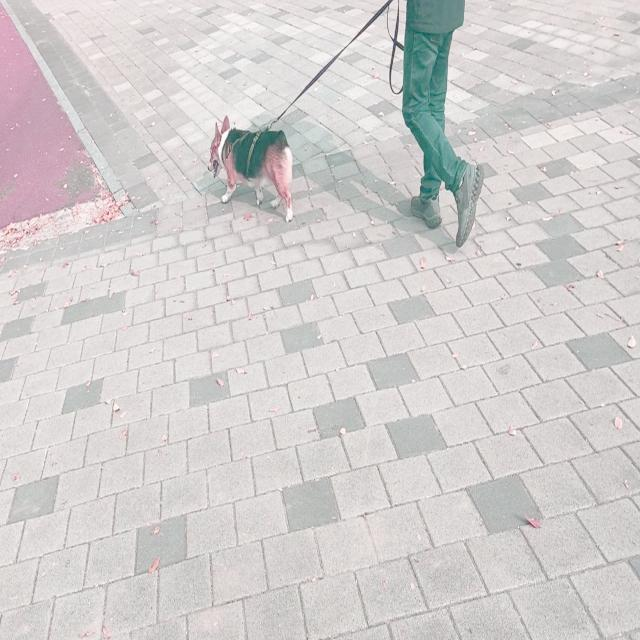Leashed_Dog: (207, 0, 424, 224)
